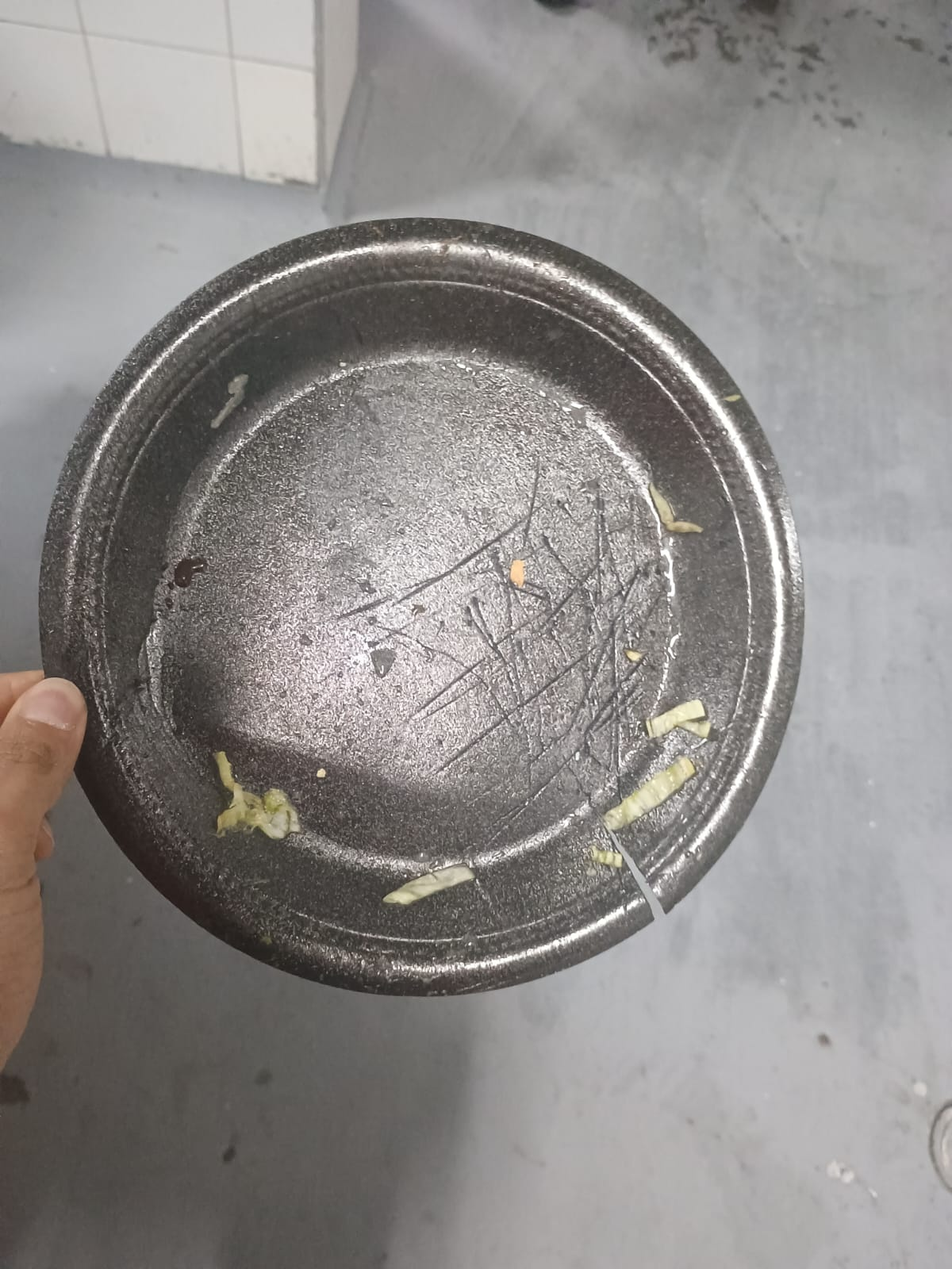Ordinario: (35, 219, 806, 993), (30, 605, 44, 616)
